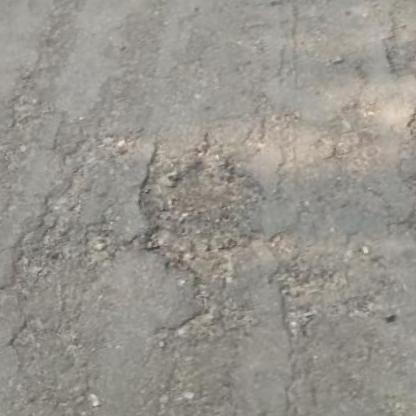pothole: (120, 127, 292, 296)
